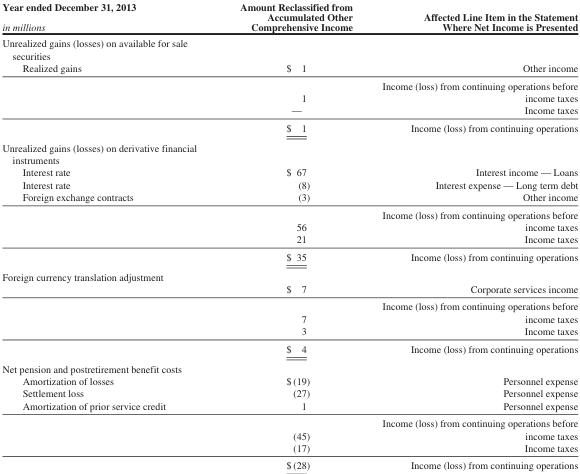table: (1, 0, 577, 470)
table column: (366, 0, 577, 470), (1, 0, 202, 470), (202, 0, 366, 470)
table column header: (1, 0, 577, 34)
table projected row header: (1, 137, 577, 165), (1, 34, 577, 61), (1, 266, 577, 282), (1, 358, 577, 374)
table row: (1, 0, 577, 34), (1, 137, 577, 165), (1, 34, 577, 61), (1, 76, 577, 103), (1, 205, 577, 232), (1, 297, 577, 324), (1, 414, 577, 441), (1, 118, 577, 137), (1, 247, 577, 266), (1, 339, 577, 358), (1, 266, 577, 282), (1, 358, 577, 374), (1, 61, 577, 76), (1, 103, 577, 118), (1, 190, 577, 205), (1, 232, 577, 247), (1, 282, 577, 297), (1, 324, 577, 339), (1, 399, 577, 414), (1, 441, 577, 456), (1, 456, 577, 470), (1, 165, 577, 178), (1, 386, 577, 399), (1, 178, 577, 190), (1, 374, 577, 386)
